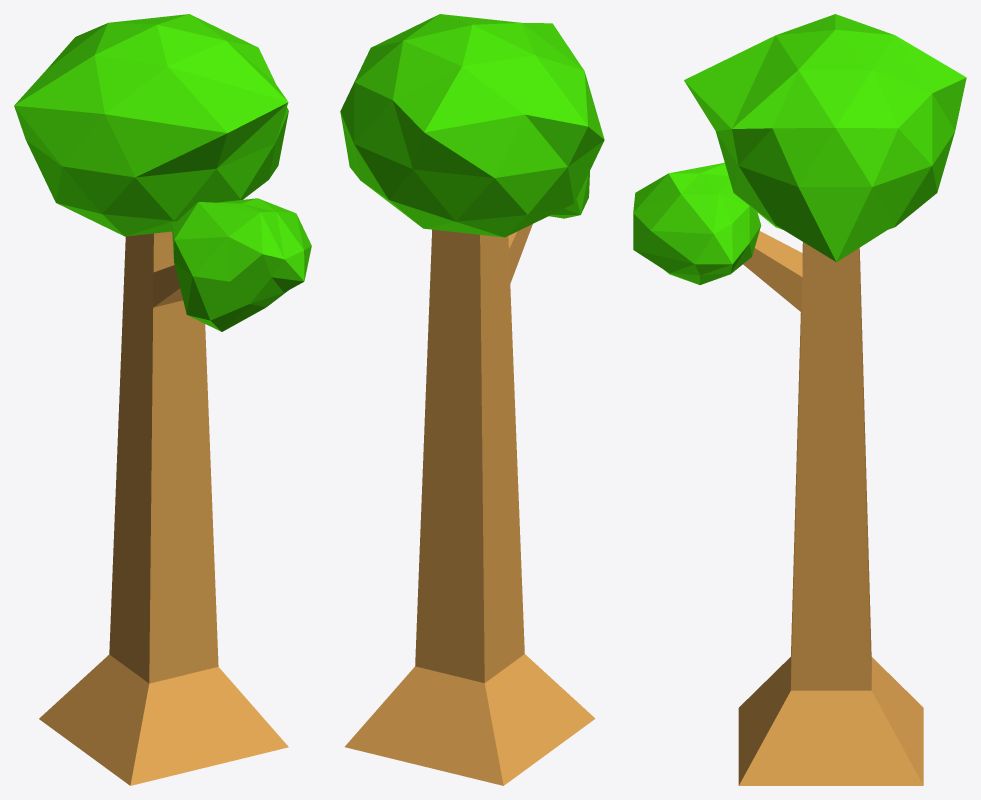
The model's file is Blender Tree.fbx.
3 renders of one model, left to right at view 1: azimuth 30°, elevation 25°; view 2: azimuth 150°, elevation 25°; view 3: azimuth 270°, elevation 25°, orthographic.
Parts seen in each view (by area): view 1: Cube, Icosphere, Icosphere.001; view 2: Cube, Icosphere, Icosphere.001; view 3: Cube, Icosphere, Icosphere.001.
Boxes of the visible parts, x1,y1,x2,y2 form: Cube: (39,231,288,785); Icosphere: (14,14,288,236); Icosphere.001: (172,198,311,331); Cube: (345,224,595,785); Icosphere: (340,14,604,237); Icosphere.001: (549,171,589,218); Cube: (738,231,923,785); Icosphere: (684,14,966,262); Icosphere.001: (633,162,761,284).
Size of the model in its own units: 725 by 1953 by 826.
